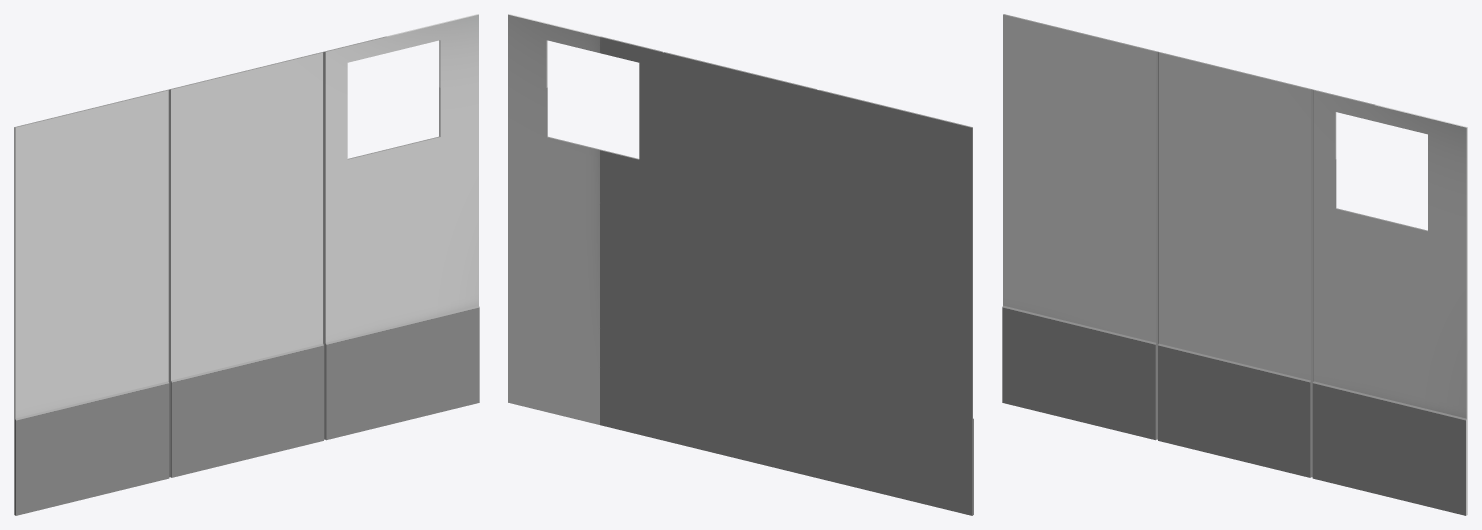
3 renders of one model, left to right at view 1: azimuth 30°, elevation 25°; view 2: azimuth 150°, elevation 25°; view 3: azimuth 330°, elevation 25°, orthographic.
Parts seen in each view (by area): view 1: small_room_window_N; view 2: small_room_window_N; view 3: small_room_window_N.
Part boxes in pixels (box(x1,y1,x2,y2)): small_room_window_N: box(14, 14, 479, 515); small_room_window_N: box(508, 14, 973, 515); small_room_window_N: box(1002, 14, 1467, 515).
Size of the model in its own units: 751 by 600 by 4.48.
